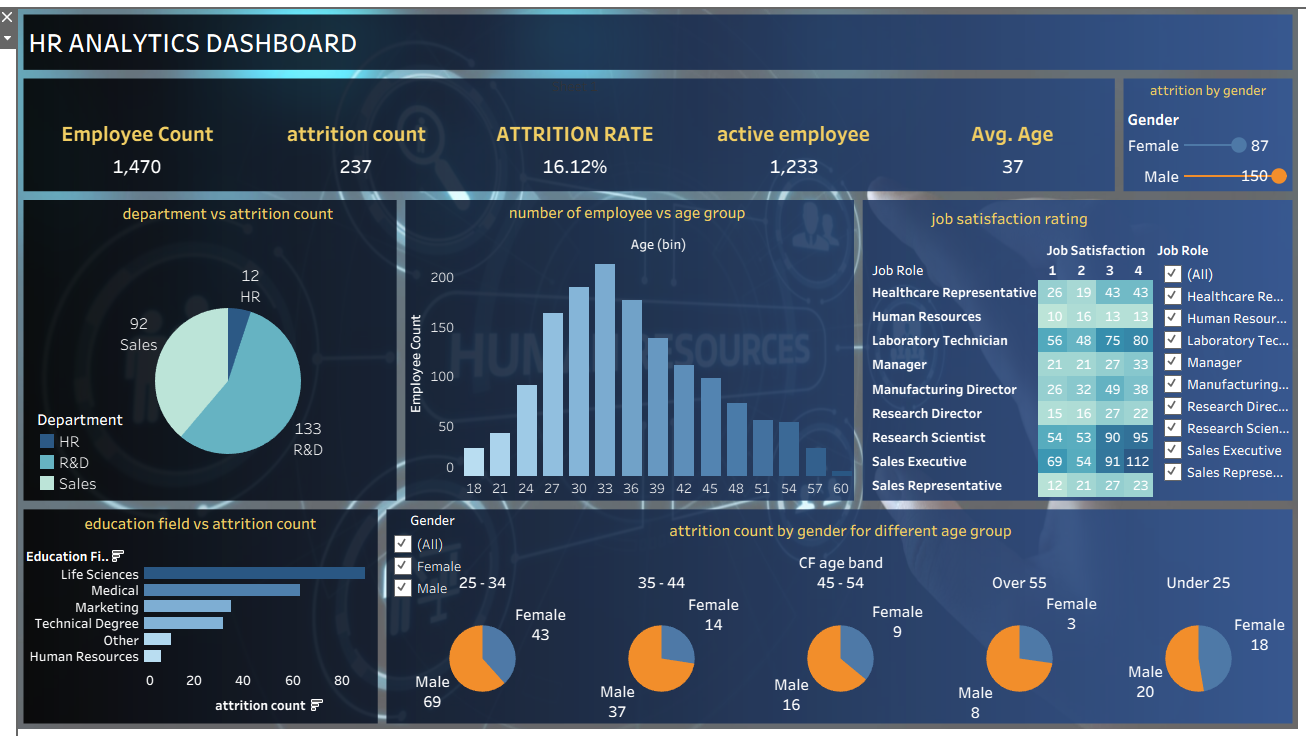

The page's visual inventory and layout, read from the dashboard file:
{"tool":"tableau","page":{"name":"Dashboard 1","canvas":[1000,1000],"units":"permille","ordinal":0},"visuals":[{"type":"text","box":[80.9,27.5,332.5,67.4]},{"type":"worksheet","title":"Sheet 1","mark":"Automatic","box":[82.7,99.9,660.2,141.1]},{"type":"worksheet","title":"attrition by gender","mark":"Automatic","rows":["Gender"],"cols":["Calculation_1186135577581182976","Calculation_1186135577581182976"],"box":[744.1,104.9,101.4,142.3]},{"type":"worksheet","title":"number of employee vs age group","mark":"Automatic","rows":["Employee Count"],"cols":["Age (bin)"],"box":[306.6,255.9,275.2,374.5]},{"type":"worksheet","title":"department vs attrition count","mark":"Pie","box":[80.3,257.2,246.2,409.5]},{"type":"worksheet","title":"job satisfaction rating","mark":"Square","rows":["Job Role"],"cols":["Job Satisfaction"],"box":[588.4,263.4,173.2,365.8]},{"type":"dashboard-object","box":[840.1,268.4,14.5,30]},{"type":"filter","title":"job satisfaction rating","param":"[federated.0xdr7h81rw6rea16dxete18lun40].[none:Job Role:nk]","box":[764,309.6,82.1,323.4]},{"type":"legend","title":"department vs attrition count","param":"[federated.0xdr7h81rw6rea16dxete18lun40].[none:Department:nk]","box":[88.1,519.8,84,115.9]},{"type":"worksheet","title":"education field vs attrition count","mark":"Automatic","rows":["Education Field"],"cols":["Calculation_1186135577581182976"],"box":[80.3,644.2,213,264.7]},{"type":"filter","title":"attrition count by gender for different age group","param":"[federated.0xdr7h81rw6rea16dxete18lun40].[none:Gender:nk]","box":[299.3,646.7,54.9,116.1]},{"type":"worksheet","title":"attrition count by gender for different age group","mark":"Pie","cols":["CF_age band"],"box":[303,652.9,542.5,260.9]}]}

Visuals, with their boxes on the dashboard's canvas, which has no fixed pixel size, in thousandths of its width and height (x1, y1, x2, y2). These are canvas units, not pixel positions in the 1306x736 screenshot, which may show the page scaled, cropped or inside an application window:
text: <bbox>81, 28, 413, 95</bbox>
"Sheet 1" worksheet: <bbox>83, 100, 743, 241</bbox>
"attrition by gender" worksheet: <bbox>744, 105, 846, 247</bbox>
"number of employee vs age group" worksheet: <bbox>307, 256, 582, 630</bbox>
"department vs attrition count" worksheet (Pie marks): <bbox>80, 257, 326, 667</bbox>
"job satisfaction rating" worksheet (Square marks): <bbox>588, 263, 762, 629</bbox>
dashboard-object: <bbox>840, 268, 855, 298</bbox>
"job satisfaction rating" filter: <bbox>764, 310, 846, 633</bbox>
"department vs attrition count" legend: <bbox>88, 520, 172, 636</bbox>
"education field vs attrition count" worksheet: <bbox>80, 644, 293, 909</bbox>
"attrition count by gender for different age group" filter: <bbox>299, 647, 354, 763</bbox>
"attrition count by gender for different age group" worksheet (Pie marks): <bbox>303, 653, 846, 914</bbox>
